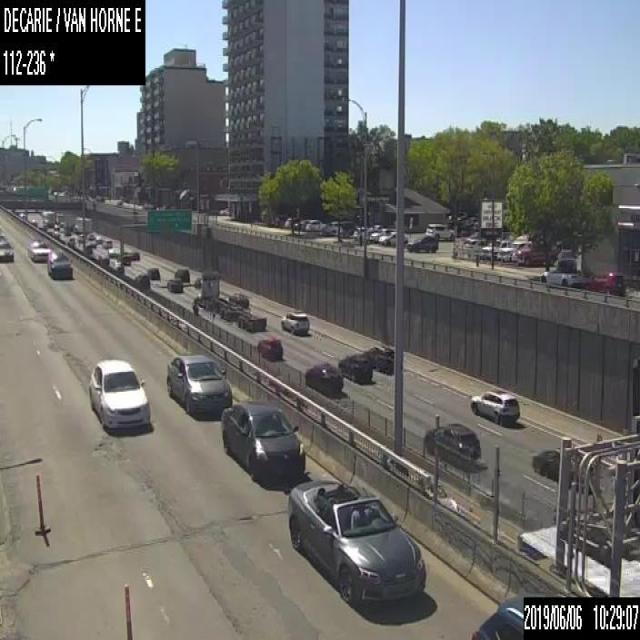construction: (34, 469, 51, 535), (122, 580, 133, 639)
vehicle: (286, 480, 425, 610), (517, 524, 639, 596), (221, 402, 305, 482), (88, 358, 150, 432), (165, 352, 232, 420), (195, 270, 267, 331), (532, 447, 595, 495), (423, 423, 481, 470), (471, 594, 523, 638), (470, 387, 519, 425), (305, 360, 342, 397), (510, 241, 556, 264), (539, 263, 582, 287), (337, 353, 372, 382), (585, 269, 624, 293), (363, 345, 393, 375), (47, 249, 72, 280), (280, 309, 309, 335), (255, 336, 283, 360), (480, 236, 508, 258), (424, 222, 454, 240), (27, 239, 50, 262), (406, 235, 437, 252), (378, 231, 407, 246), (557, 248, 576, 270), (72, 216, 91, 233), (0, 240, 14, 263), (166, 277, 182, 292), (369, 228, 387, 241), (305, 218, 323, 231), (134, 274, 150, 288), (173, 267, 189, 281), (146, 266, 159, 280), (85, 232, 95, 248), (64, 235, 74, 247), (191, 298, 198, 314), (102, 239, 111, 247), (122, 256, 130, 265), (284, 217, 290, 226)
